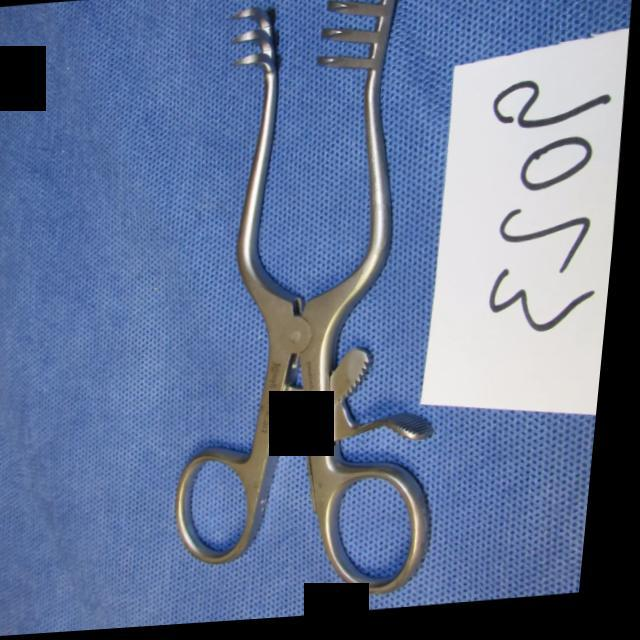Self Retractor: (165, 0, 484, 621)
